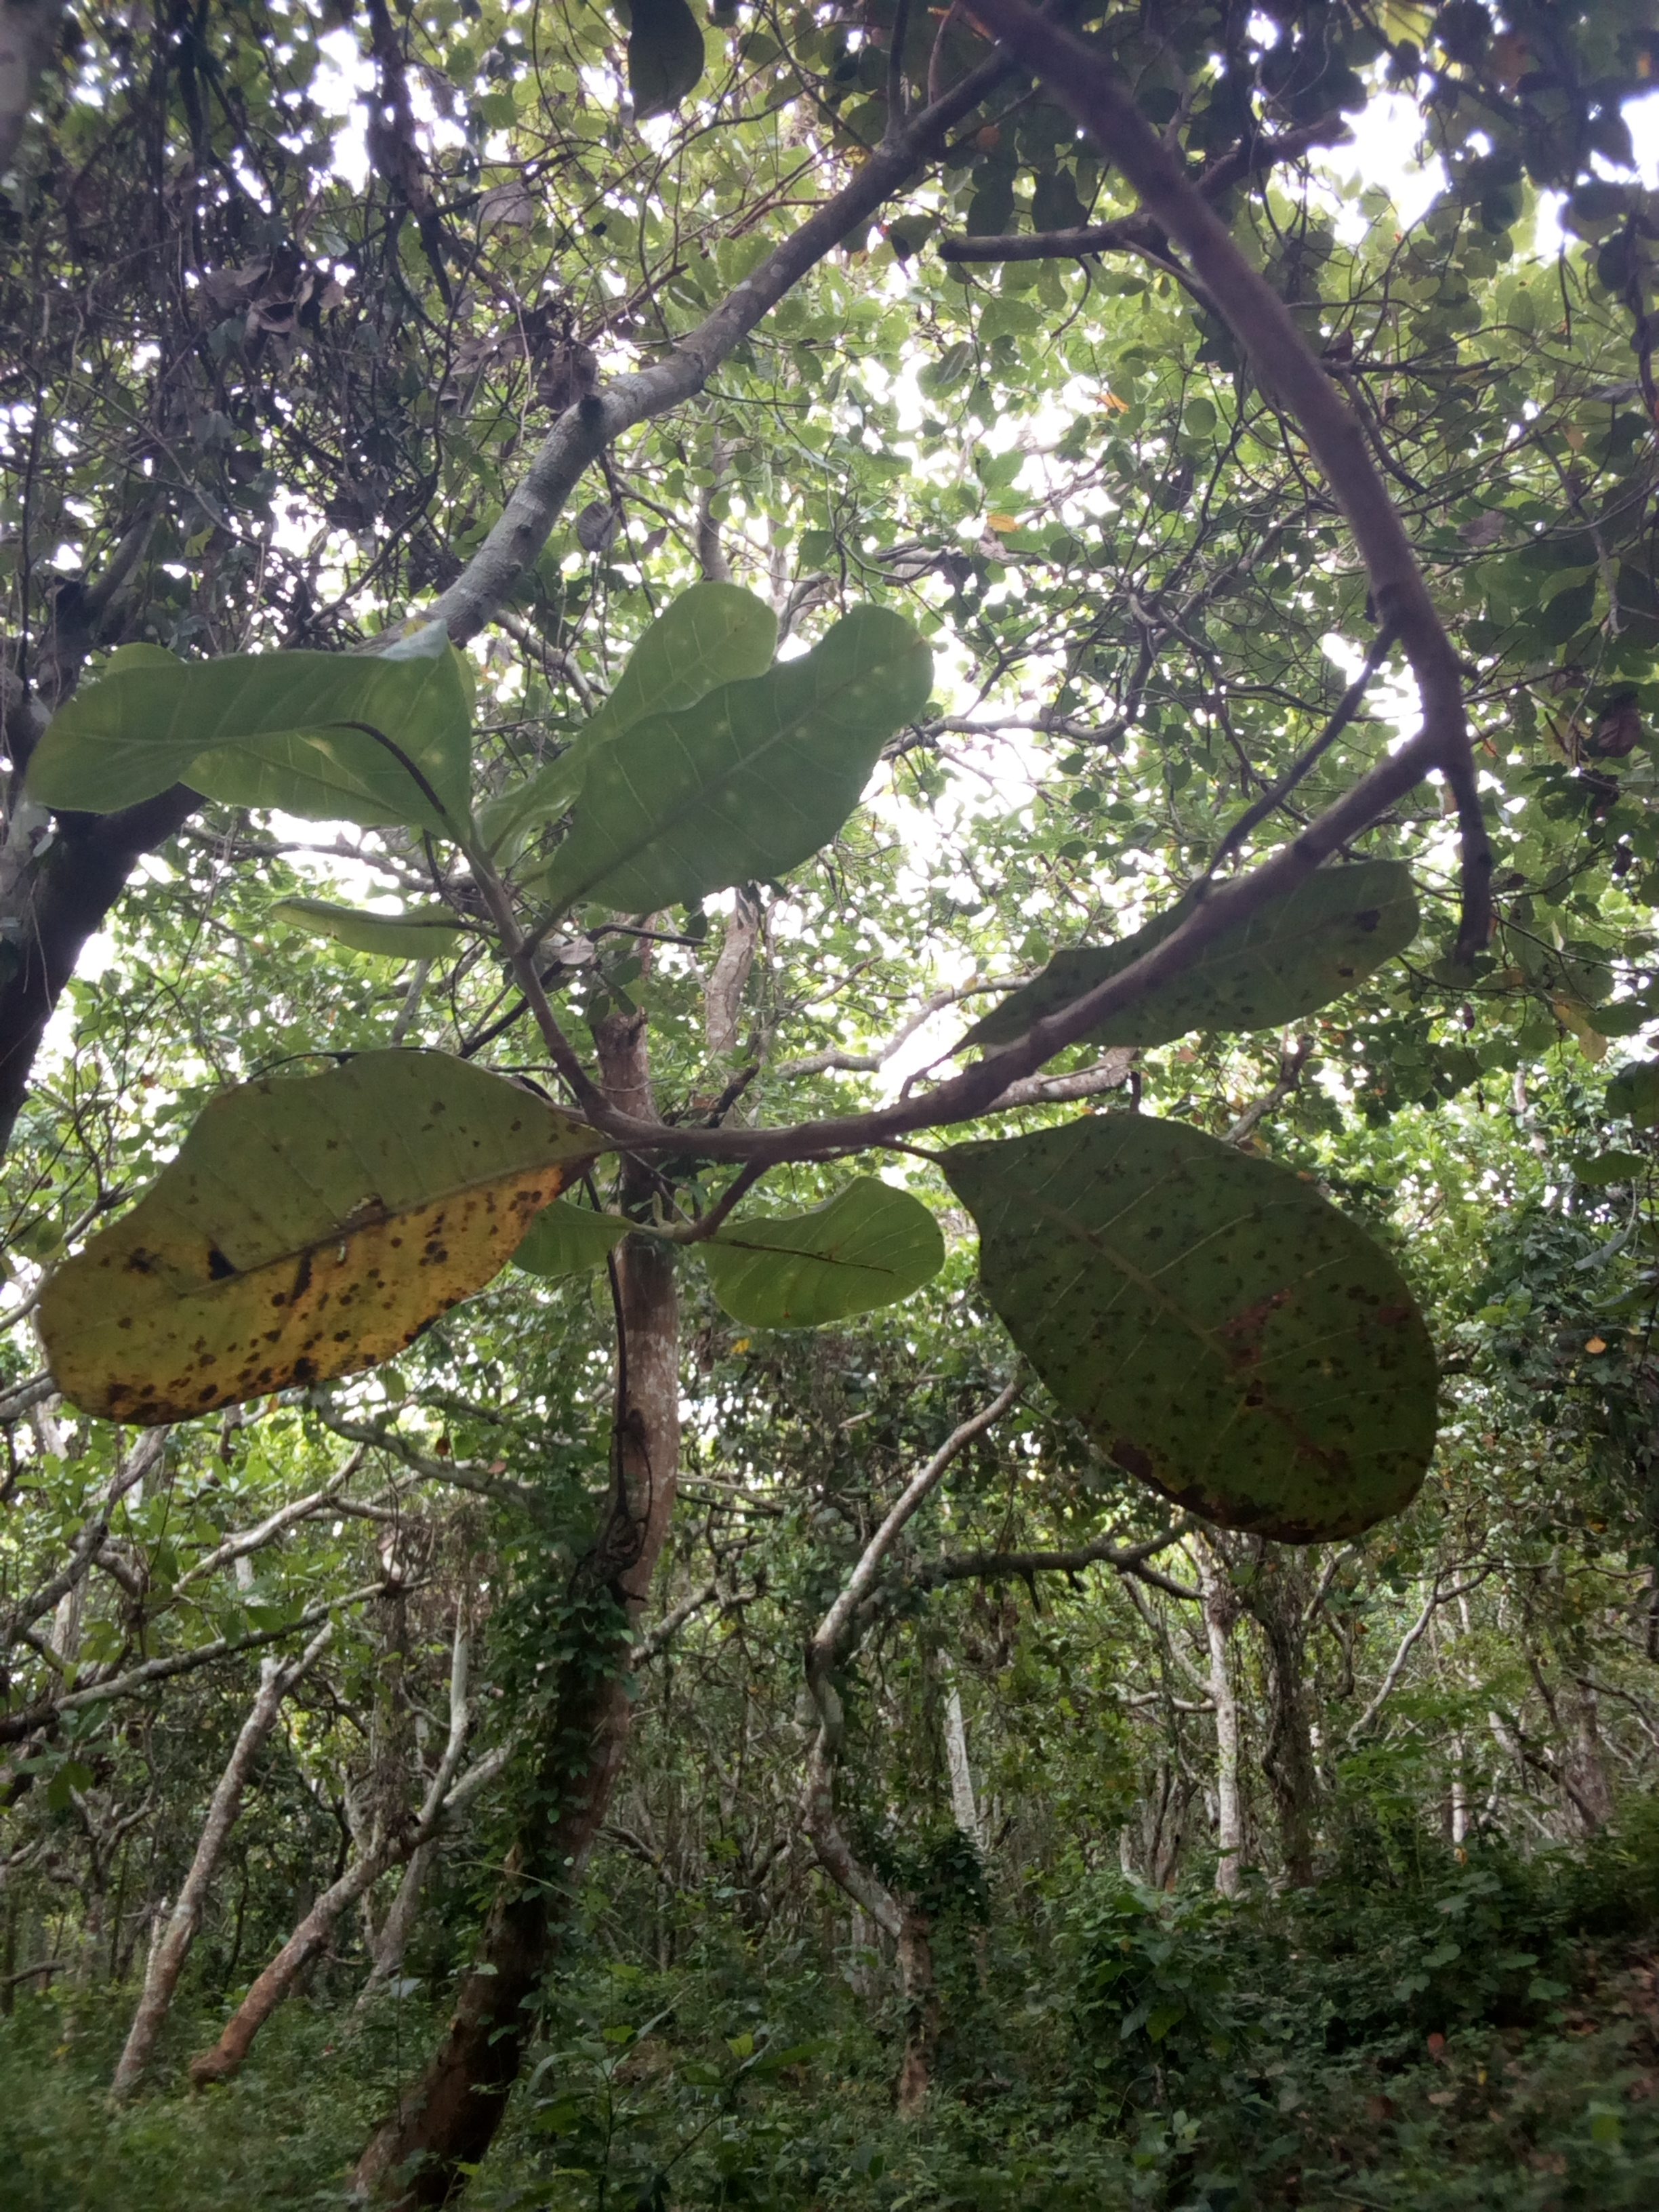Anthracnose: (23, 1038, 589, 1432), (948, 1109, 1446, 1547), (965, 862, 1432, 1062)
